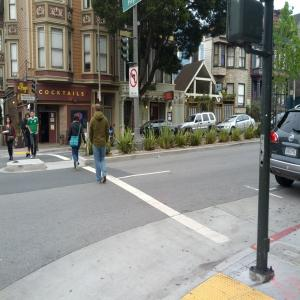Vehicle-registration-plate: (285, 146, 298, 158)
